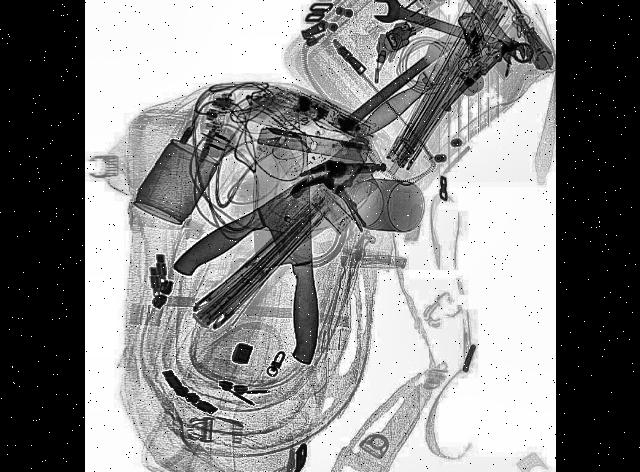Gun: (421, 0, 502, 110)
Knife: (169, 132, 379, 320), (247, 121, 320, 366), (342, 5, 482, 128), (358, 19, 496, 140)
Wrench: (370, 0, 534, 75), (423, 0, 527, 71)
